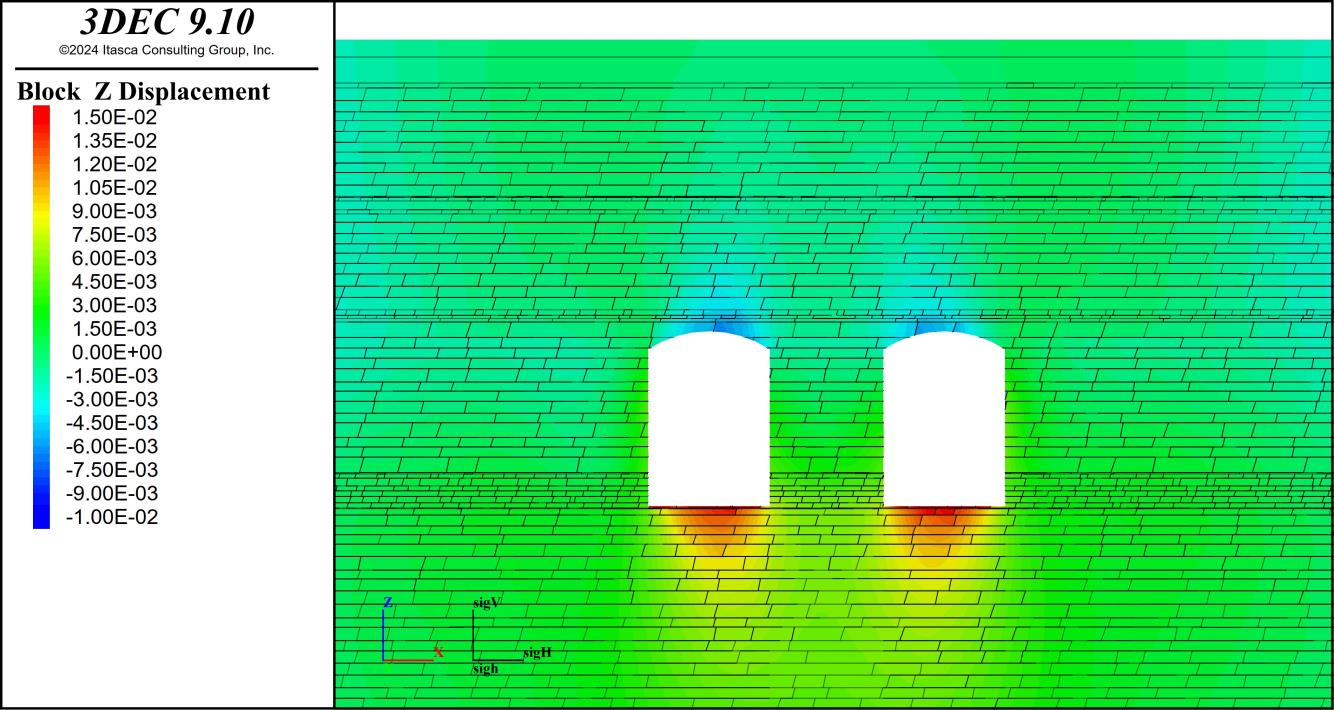crown: (918, 304, 970, 327), (684, 308, 734, 331)
label: (4, 0, 332, 706)
tunnel-opening: (646, 333, 770, 508), (882, 331, 1005, 507)
